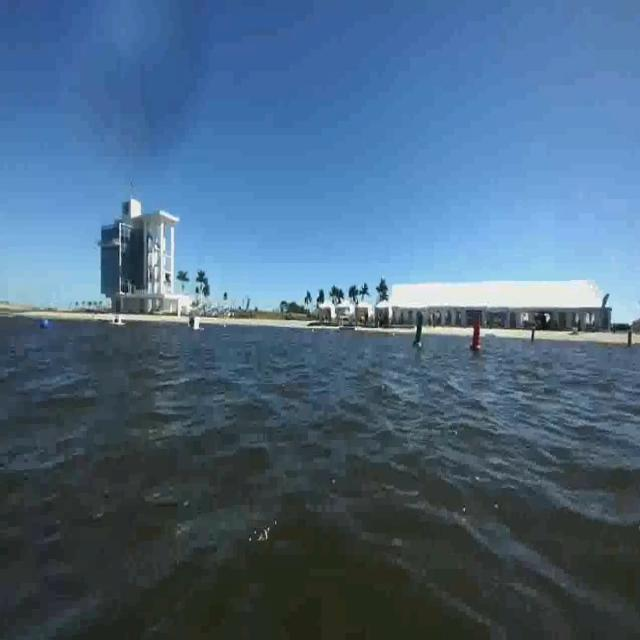green-column-buoy: (413, 310, 426, 348)
red-column-buoy: (472, 322, 483, 352)
